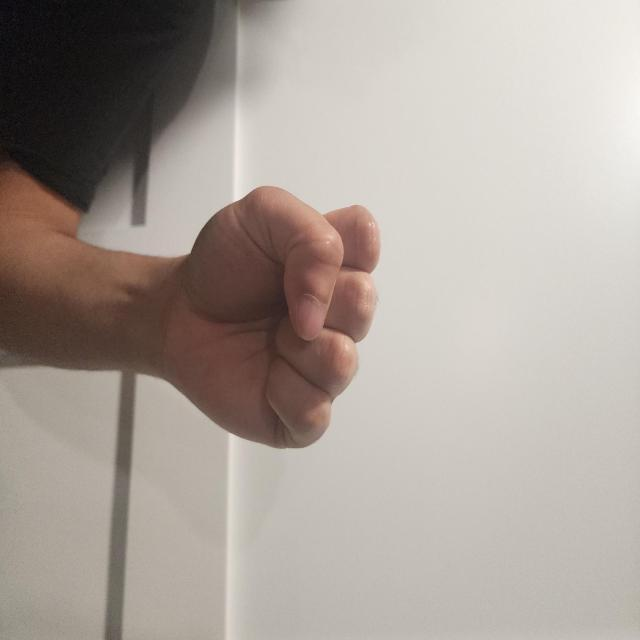S: (292, 338, 504, 640)
